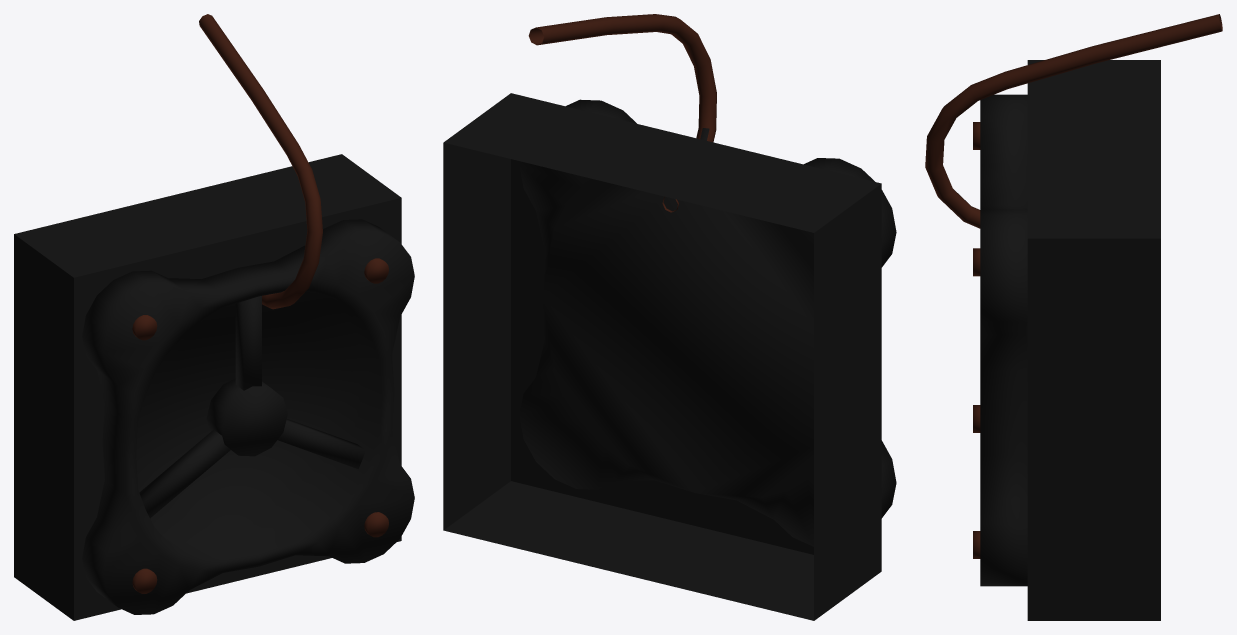
Rendered from Mesh_MtPanorama_Vent_2.FBX.
The picture shows the model from 3 angles, left to right: view 1: azimuth 30°, elevation 25°; view 2: azimuth 150°, elevation 25°; view 3: azimuth 270°, elevation 25°; orthographic projection. The views are drawn at different scales.
Parts seen in each view (by area): view 1: Mesh_MtPanorama_Vent_2; view 2: Mesh_MtPanorama_Vent_2; view 3: Mesh_MtPanorama_Vent_2.
Boxes of the visible parts, x1,y1,x2,y2 form: Mesh_MtPanorama_Vent_2: (14, 14, 414, 620); Mesh_MtPanorama_Vent_2: (443, 14, 896, 620); Mesh_MtPanorama_Vent_2: (925, 14, 1222, 620).
Size of what is drawn, in the model's own units: 347 by 244 by 495.
